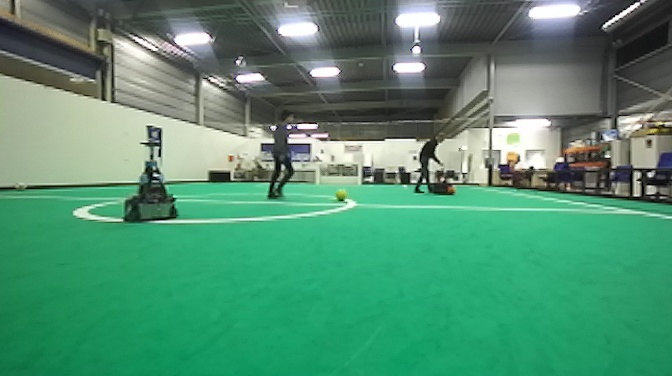ball: (10, 180, 31, 193), (333, 187, 350, 203), (449, 184, 457, 196)
goal: (312, 162, 363, 187)
goalpost: (312, 161, 322, 186), (354, 161, 364, 186)
human: (261, 109, 299, 203), (410, 129, 451, 197)
robot: (120, 139, 182, 224), (427, 161, 452, 195)
